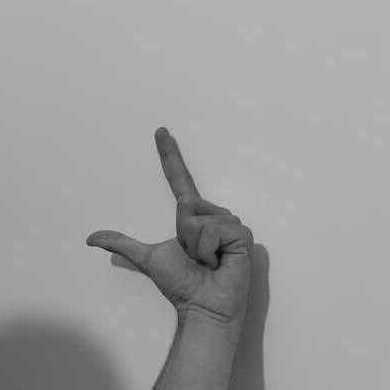L: (85, 125, 255, 321)
